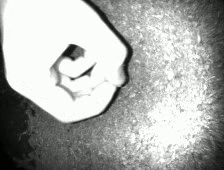corn: (107, 78, 123, 89)
